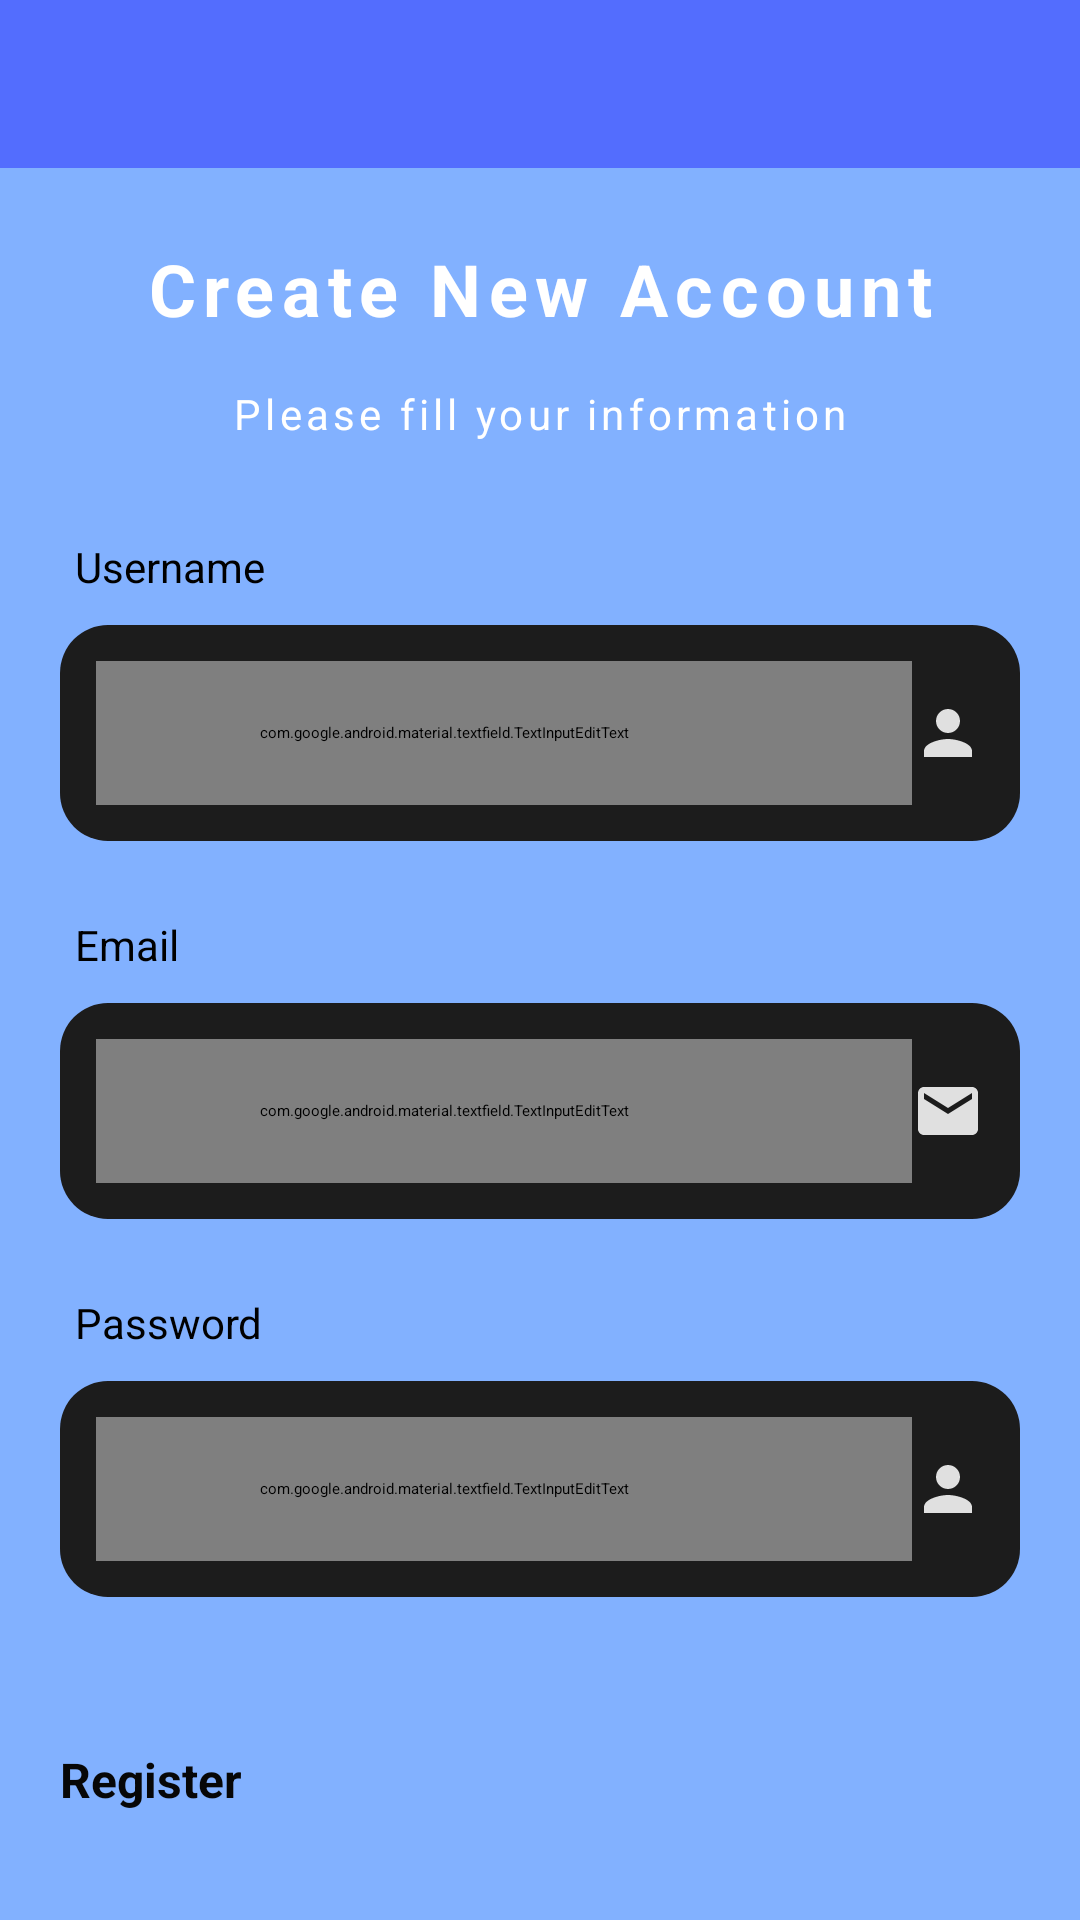

Icons on this 1080x1920 Android screen, each with its box as region(x1, y1, x2, y2):
person: region(924, 709, 972, 757), region(924, 1465, 972, 1513)
